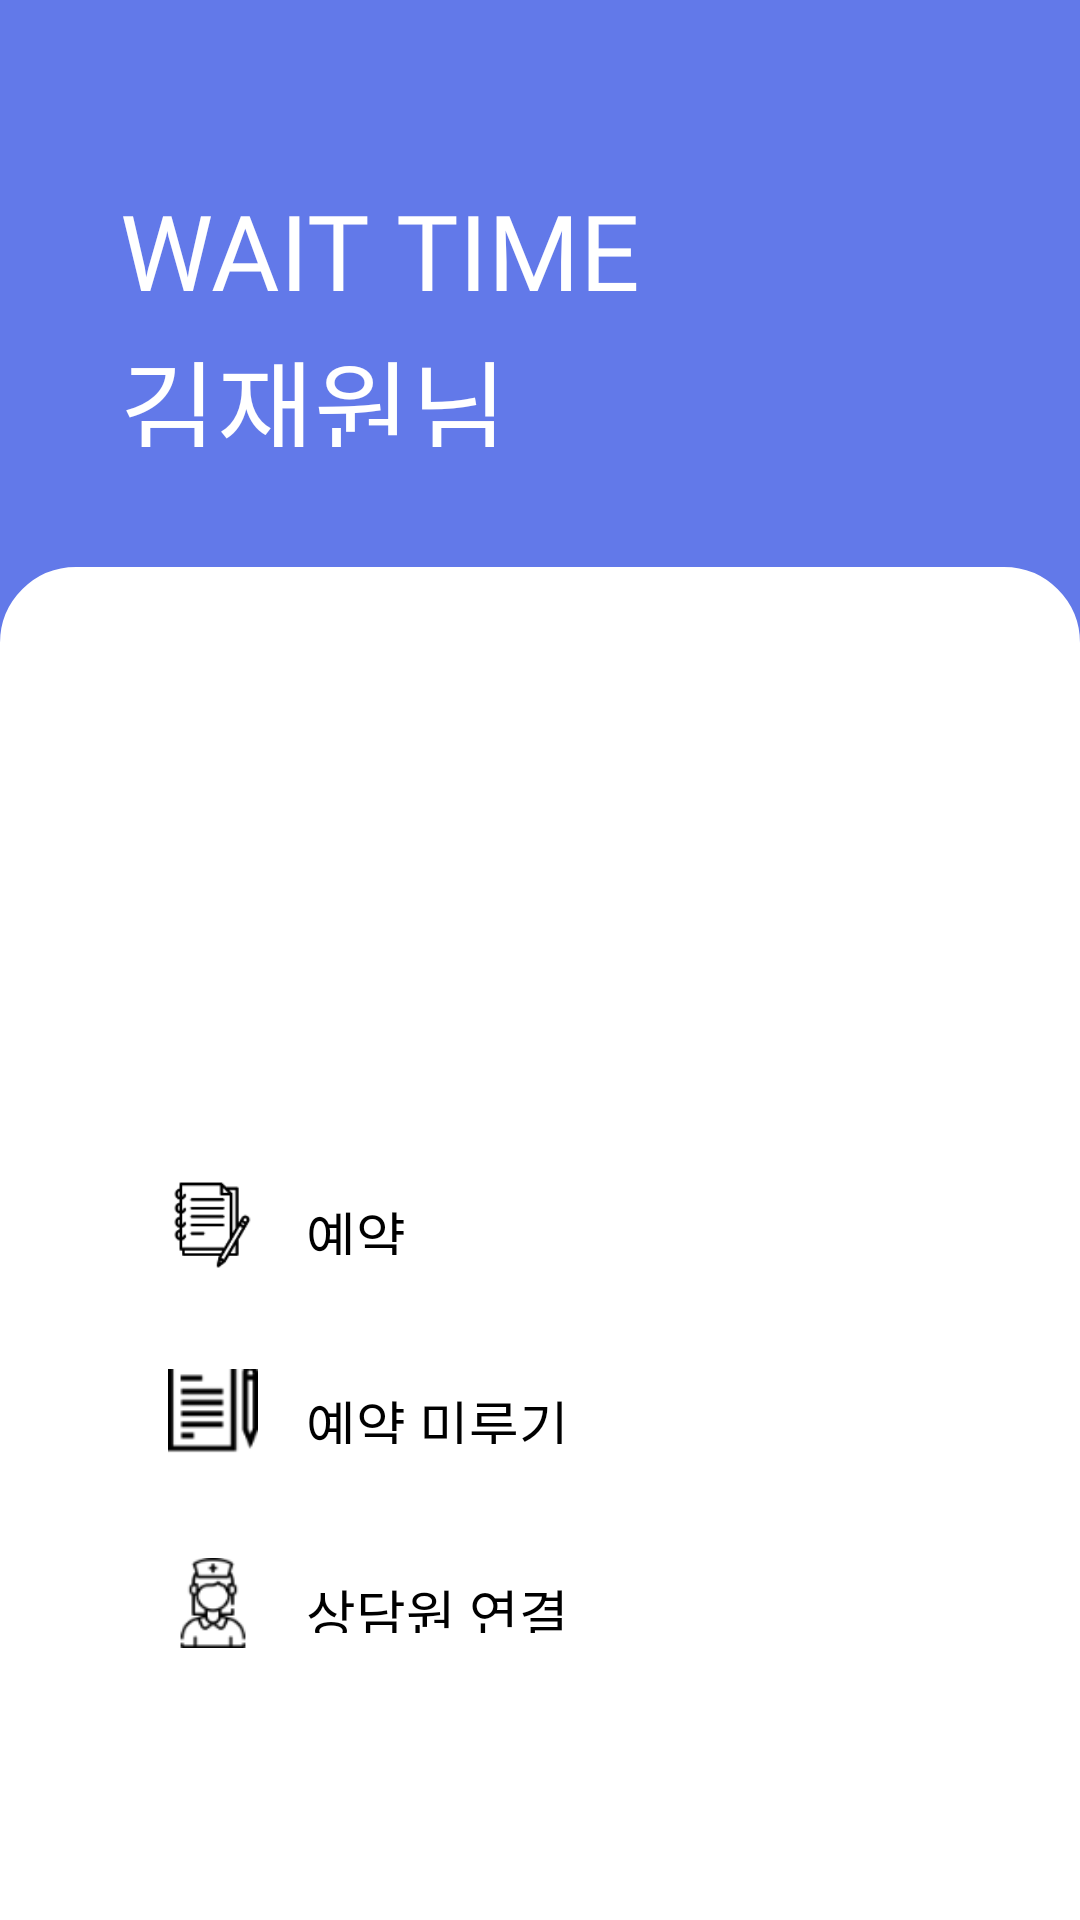

Icon bounding boxes for this 1080×1920 phone screenshot, format (x1, y1, x2, y2):
book: (168, 1369, 258, 1452)
write: (174, 1182, 251, 1268)
